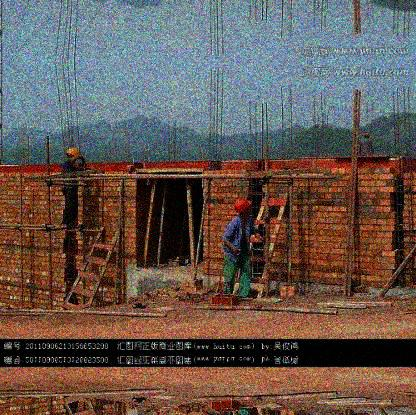helmet: (233, 195, 252, 214), (65, 145, 81, 162), (363, 131, 372, 138)
